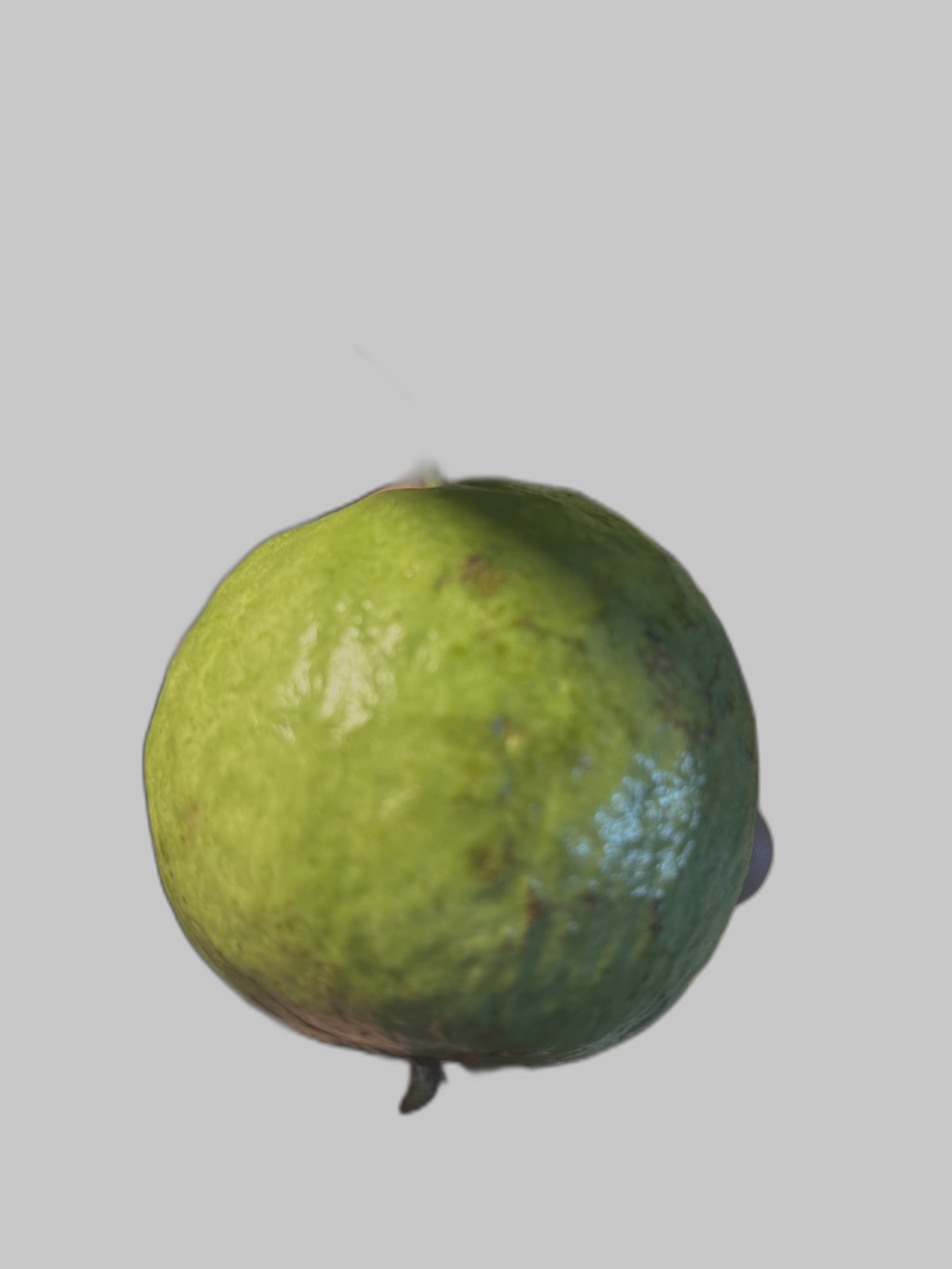guava: (67, 337, 883, 1183)
